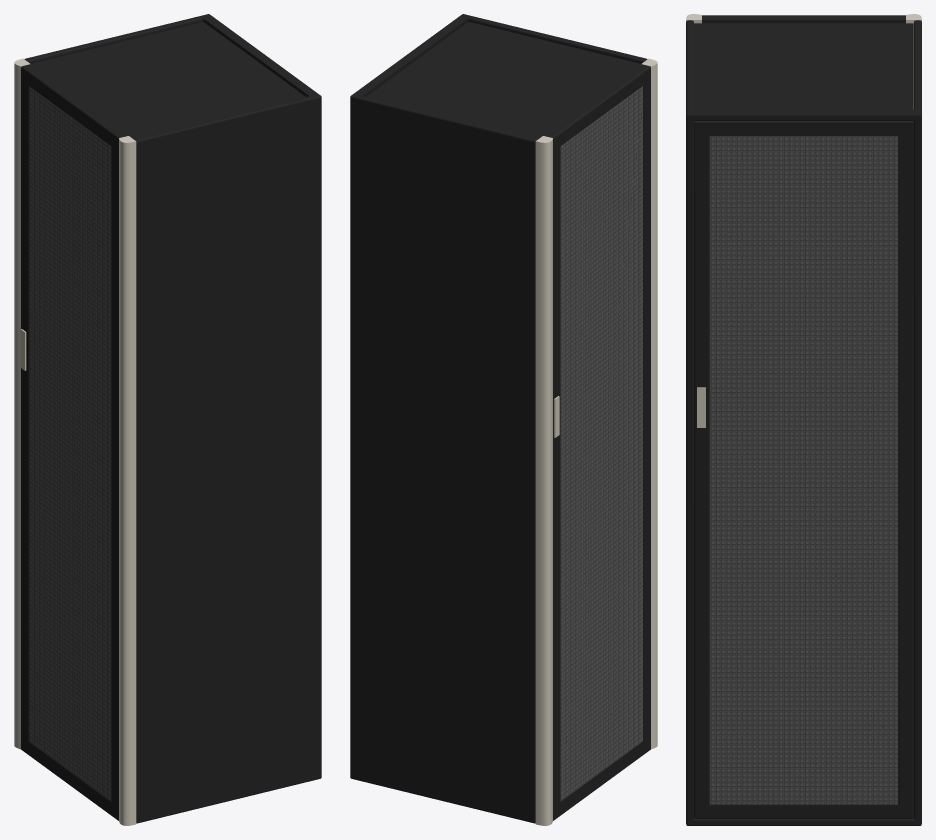
The picture shows the model from 3 angles, left to right: view 1: azimuth 30°, elevation 25°; view 2: azimuth 150°, elevation 25°; view 3: azimuth 270°, elevation 25°; orthographic projection. The views are drawn at different scales.
Visible parts, largest first — view 1: 标准机架0.6*0.6*2.0; view 2: 标准机架0.6*0.6*2.0; view 3: 标准机架0.6*0.6*2.0.
Boxes of the visible parts, x1,y1,x2,y2 form: 标准机架0.6*0.6*2.0: (14,14,321,825); 标准机架0.6*0.6*2.0: (350,14,657,825); 标准机架0.6*0.6*2.0: (686,14,921,825).
Size of the model in its own units: 608 by 2000 by 600.
Materials: 3 (1 with a texture image).
